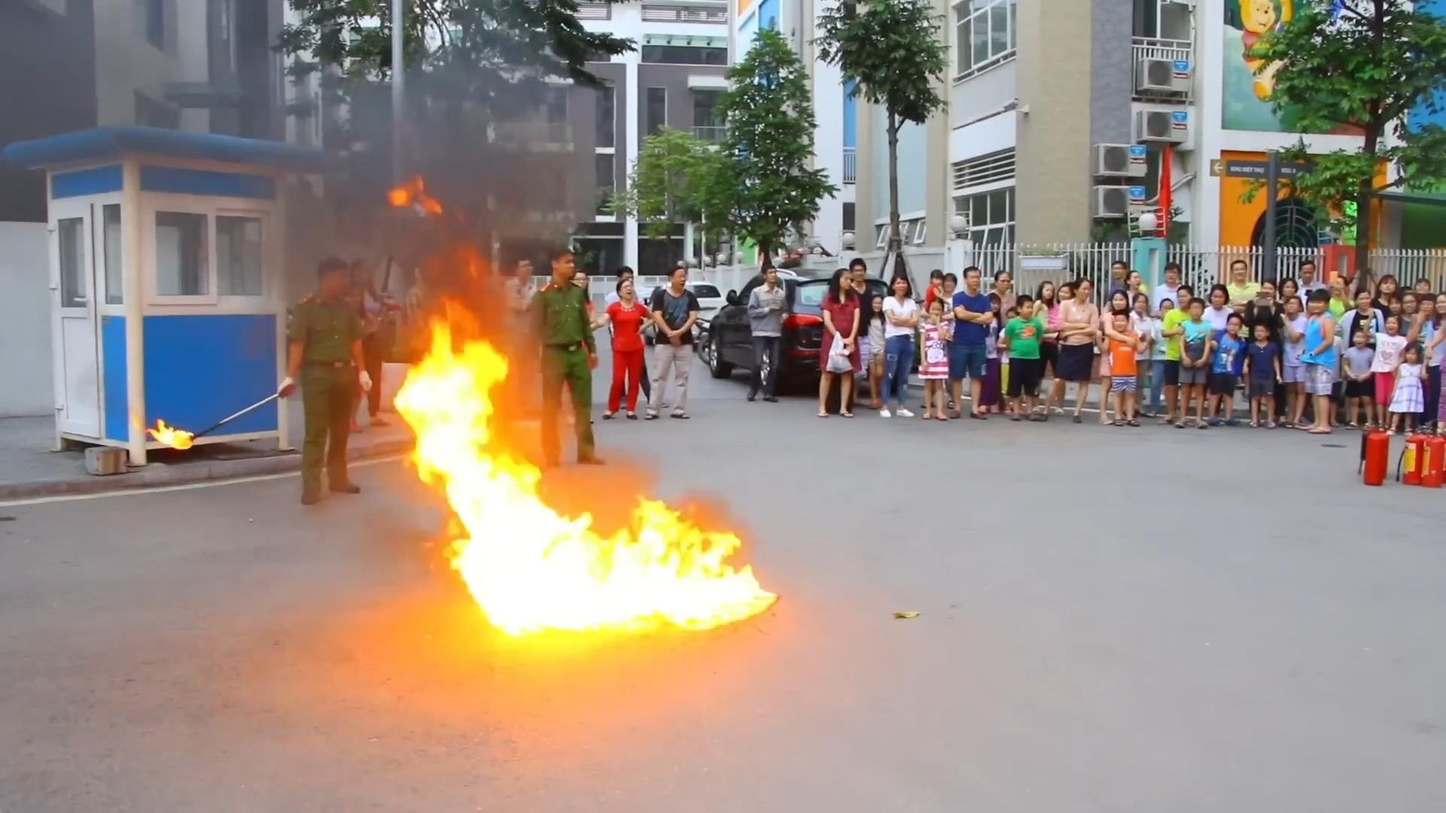FireExtinguisher: (1401, 424, 1446, 493), (1358, 416, 1393, 493)
not: (366, 177, 786, 657), (1220, 145, 1396, 265), (595, 271, 655, 422), (818, 264, 856, 394), (1236, 6, 1295, 83), (1104, 311, 1141, 399), (140, 413, 207, 457), (1149, 145, 1179, 235), (915, 264, 942, 312)
